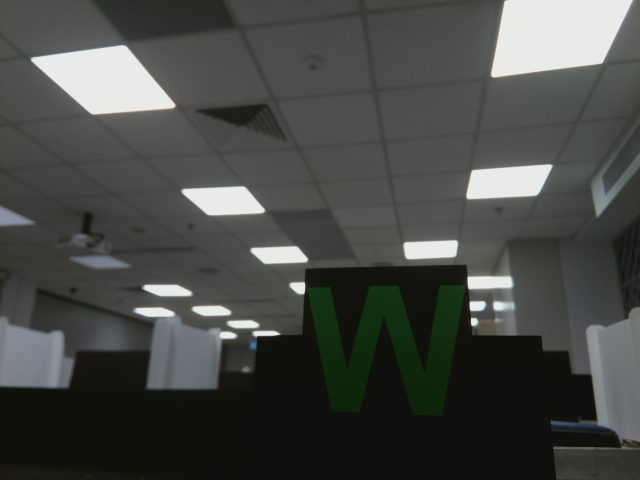w: (304, 285, 474, 420)
